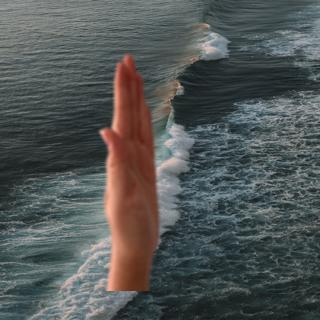Right: (92, 49, 174, 293)
